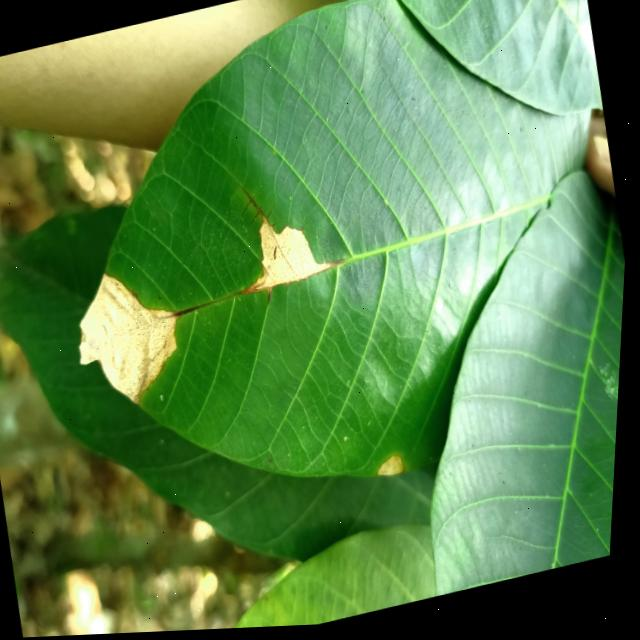Colletotrichum: (273, 459, 278, 464)
Corynespora: (239, 183, 282, 236)
Leaf-Blight: (66, 257, 199, 418), (234, 205, 339, 298), (379, 457, 411, 483)
